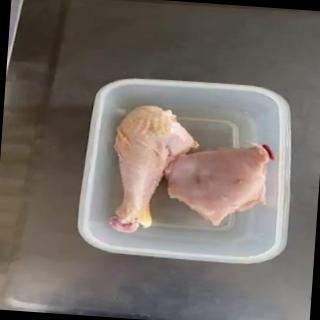Ayam: (108, 103, 204, 238), (160, 136, 277, 231)
